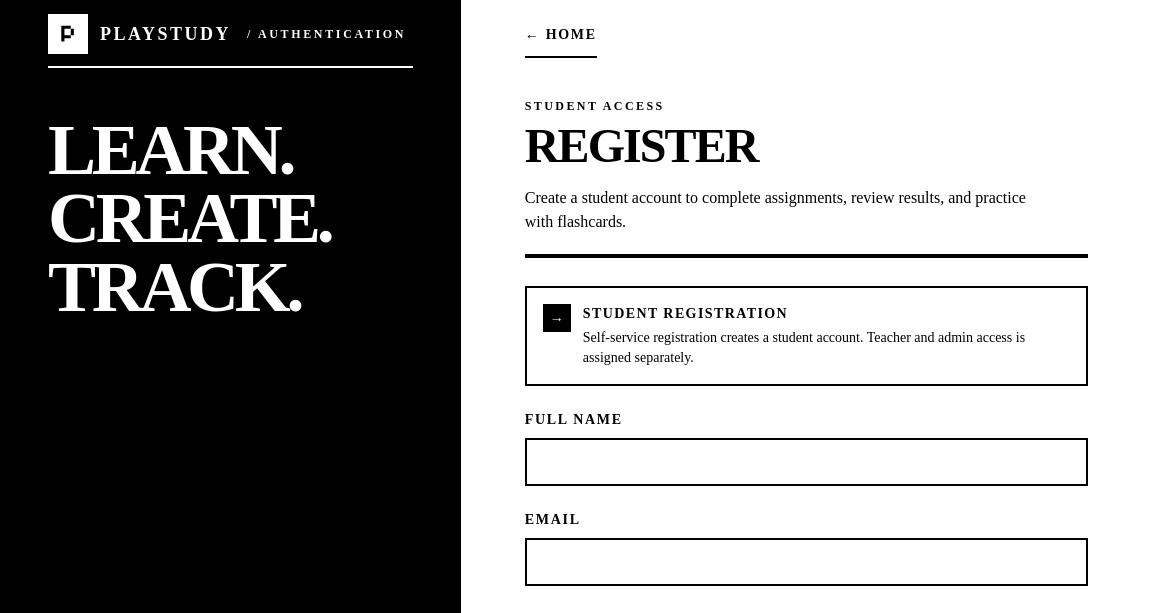
authentication error localization › registration renders a safe inline error without the Axios request body
The width and height of the screenshot is (1152, 613).
Type "Test Student" into the field with test id "register-fullname-input".
click(806, 462); type("Test Student")  # box [525,438,1088,486]
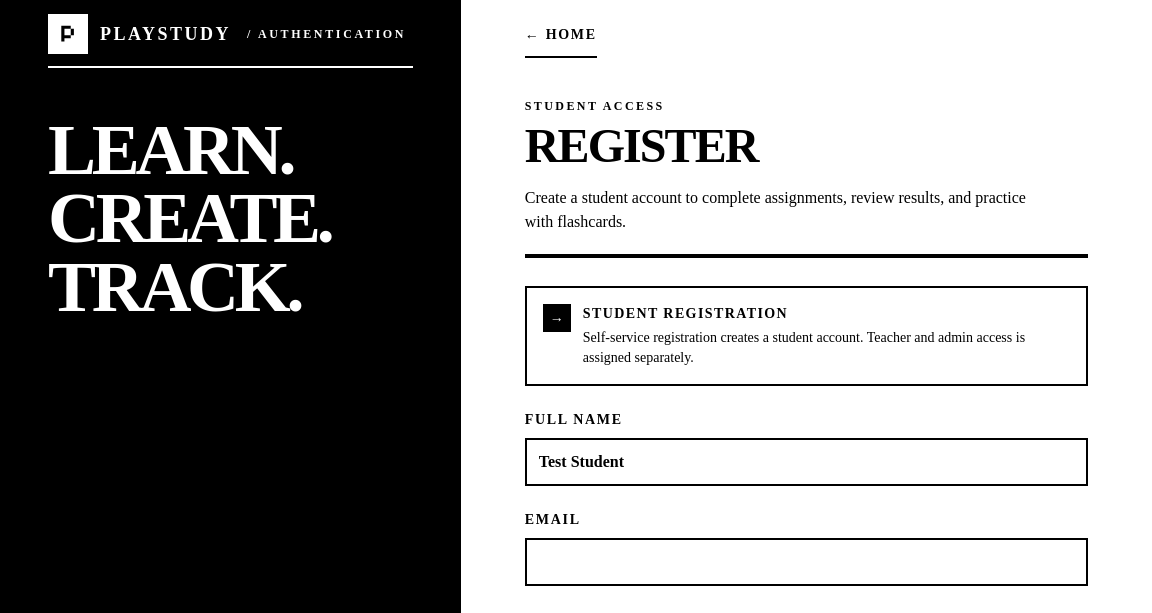
Type "student@example.test" into the field with test id "register-email-input".
click(806, 562); type("student@example.test")  # box [525,538,1088,586]
(page scrolled)
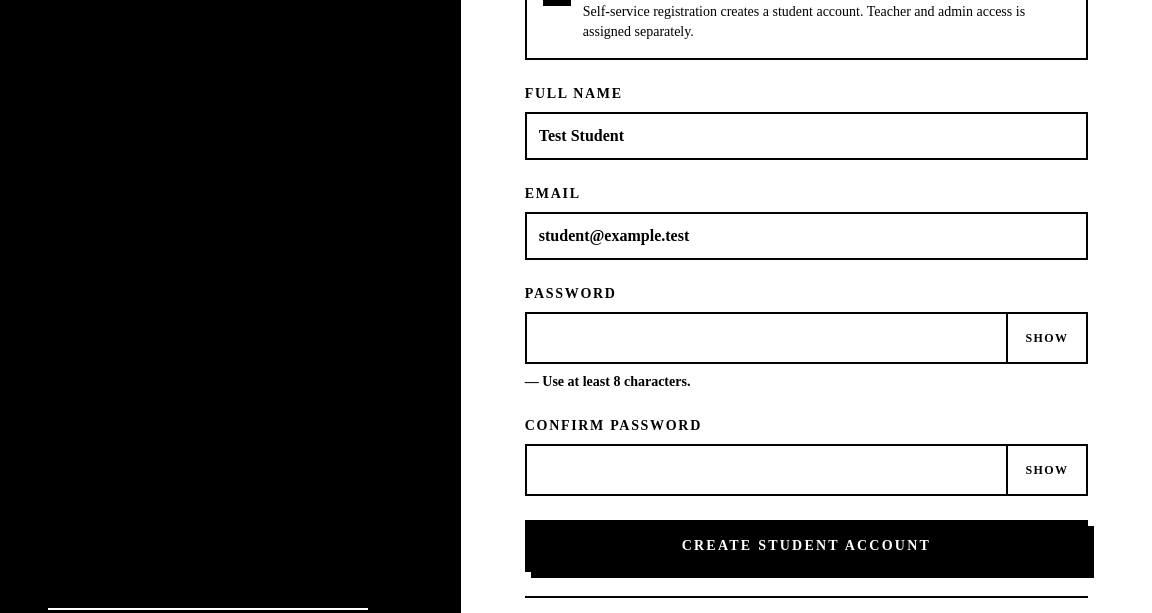
Type "canary-password" into the password field with test id "register-password-input".
click(766, 338); type("canary-password")  # box [527,314,1006,362]
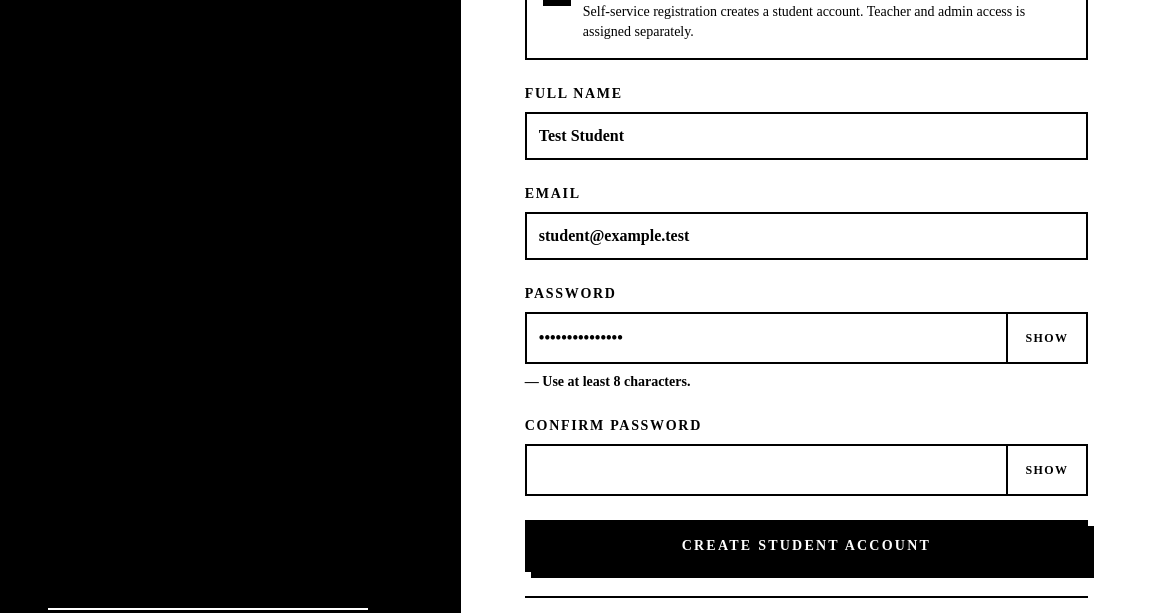
Type "canary-password" into the password field with test id "register-confirm-password-input".
click(766, 470); type("canary-password")  # box [527,446,1006,494]
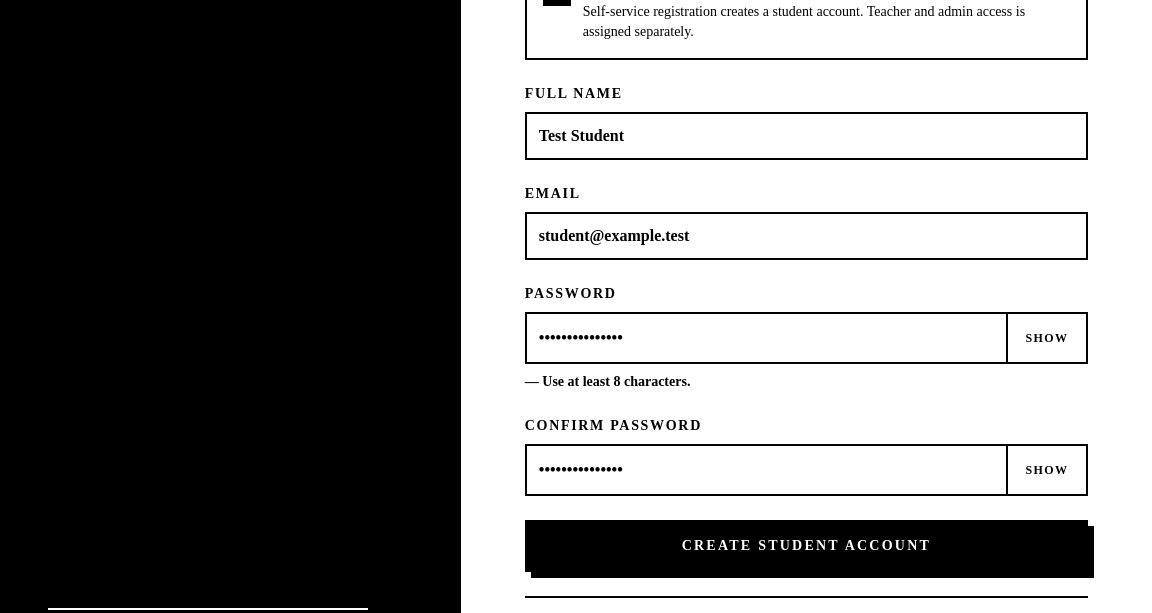
Click the button with test id "register-submit-button".
click(806, 546)  # box [525,520,1088,572]
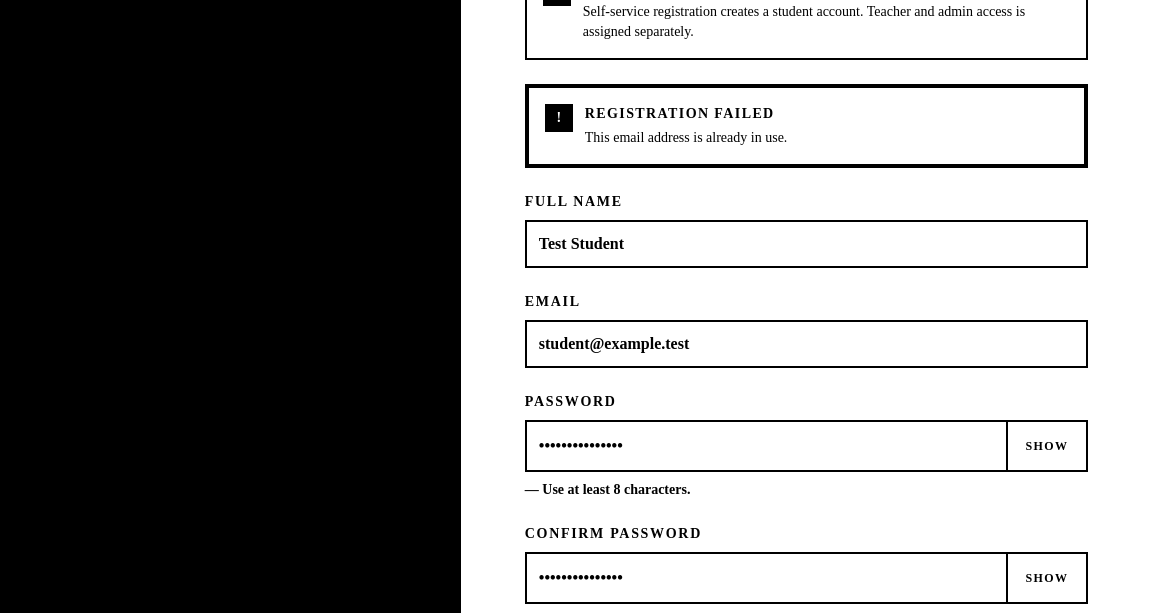
Check: the message "! Registration failed This email address is already in use." does not show "canary", box [525,84,1088,168]
Check: the message "! Registration failed This email address is already in use." is shown, box [525,84,1088,168]
